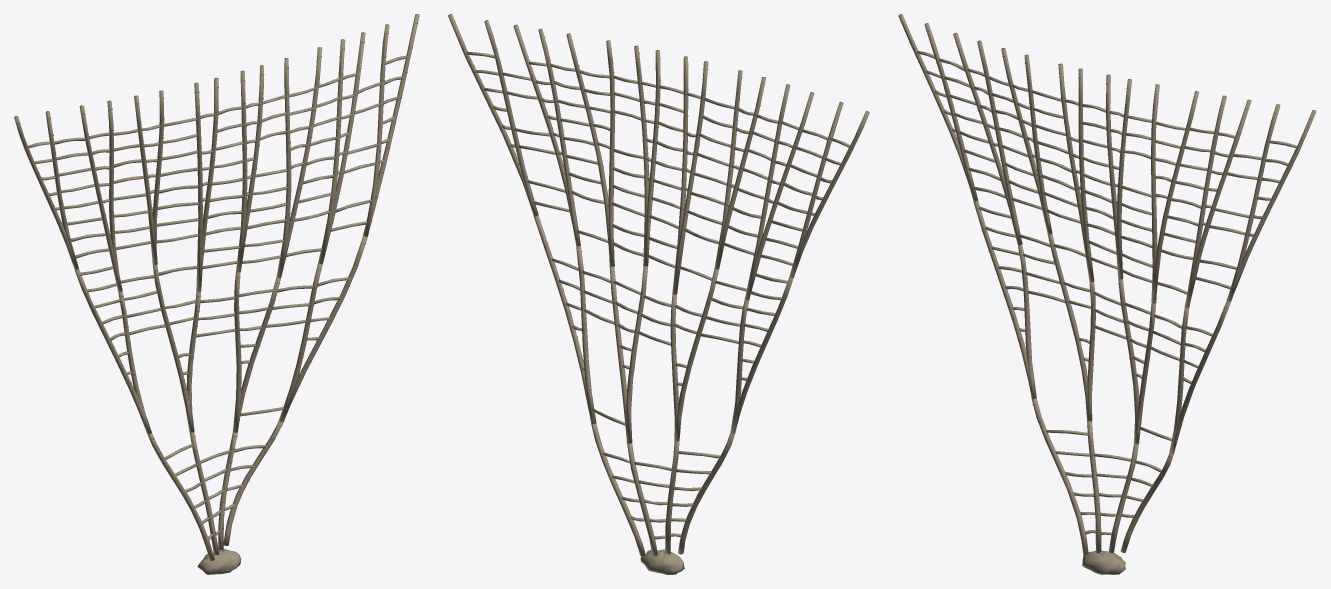
File: bryozoan-colony.lod1.glb
The picture shows the model from 3 angles, left to right: view 1: azimuth 30°, elevation 25°; view 2: azimuth 150°, elevation 25°; view 3: azimuth 330°, elevation 25°; orthographic projection.
Visible parts, largest first — view 1: bryozoan-colony; view 2: bryozoan-colony; view 3: bryozoan-colony.
Boxes of the visible parts, x1,y1,x2,y2 form: bryozoan-colony: (14, 14, 419, 574); bryozoan-colony: (448, 14, 869, 574); bryozoan-colony: (898, 14, 1316, 574).
Size of the model in its own units: 0.0512 by 0.0599 by 0.00487.
